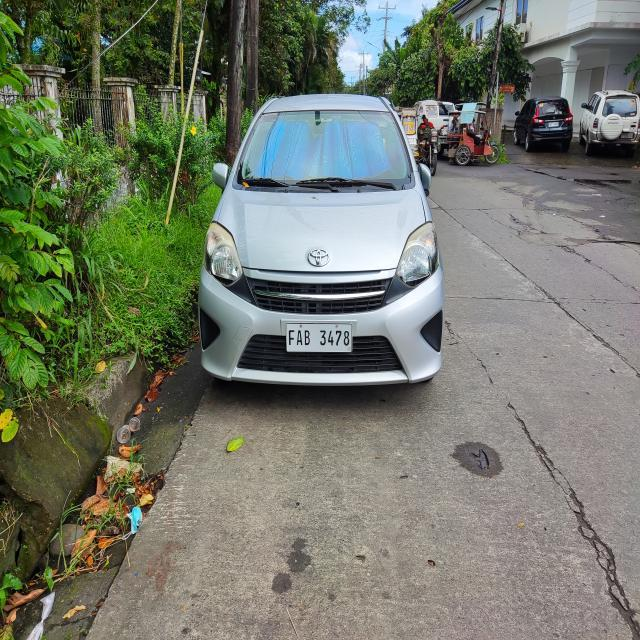LicensePlate: (283, 318, 358, 359)
